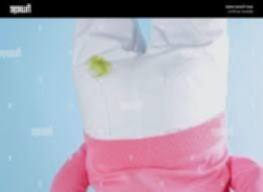earth: (89, 56, 112, 77)
